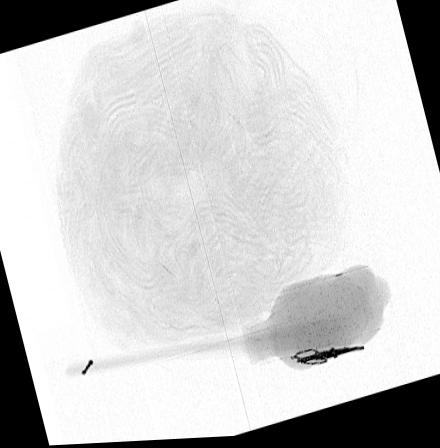Scissors: (288, 346, 367, 369)
